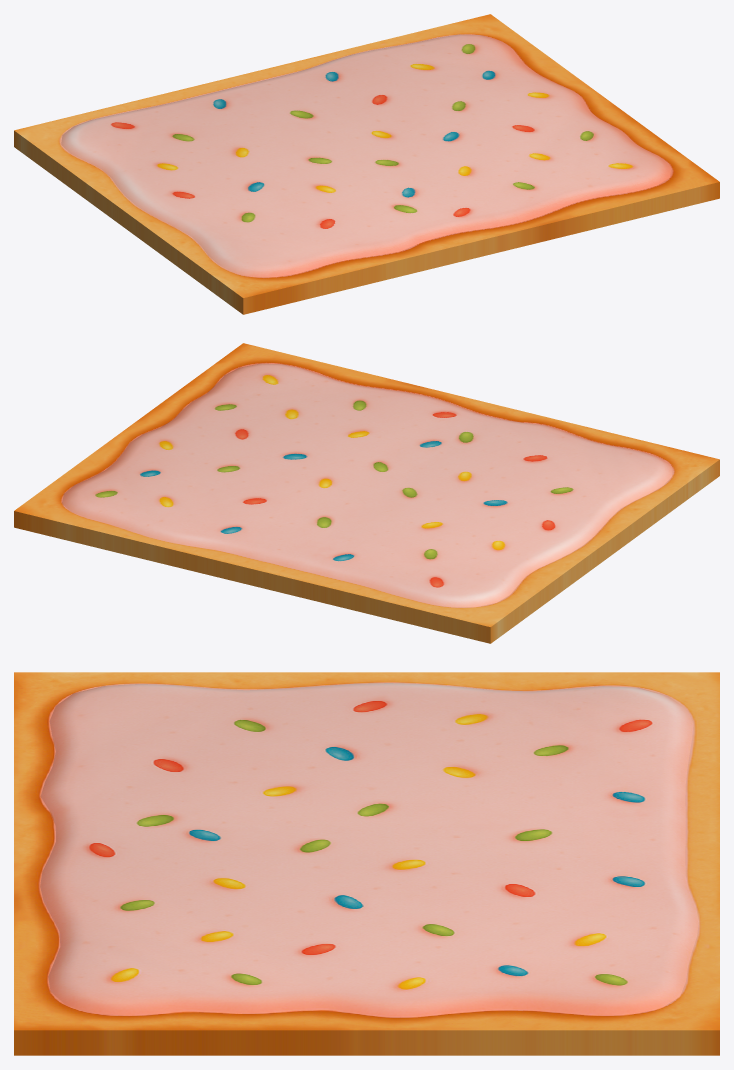
File: Floor_001.glb
3 renders of one model, top to bottom at view 1: azimuth 30°, elevation 25°; view 2: azimuth 150°, elevation 25°; view 3: azimuth 270°, elevation 25°, orthographic. The views are drawn at different scales.
Parts seen in each view (by area): view 1: Floor_001; view 2: Floor_001; view 3: Floor_001.
Boxes of the visible parts, <box> form: Floor_001: <box>14,14,719,314</box>; Floor_001: <box>14,343,719,643</box>; Floor_001: <box>14,672,719,1055</box>.
Size of the model in its own units: 6 by 0.3112 by 5.
1 material, 1 textured.
